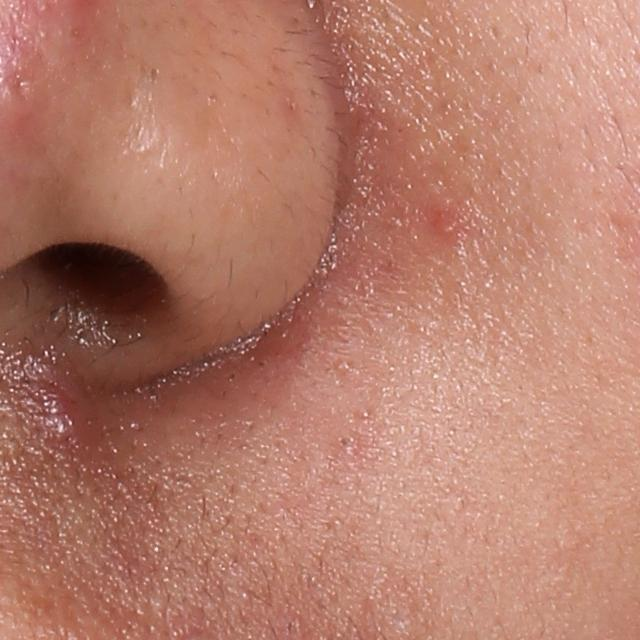comedo: (337, 429, 357, 449)
papule: (37, 392, 94, 450), (427, 205, 467, 242)
